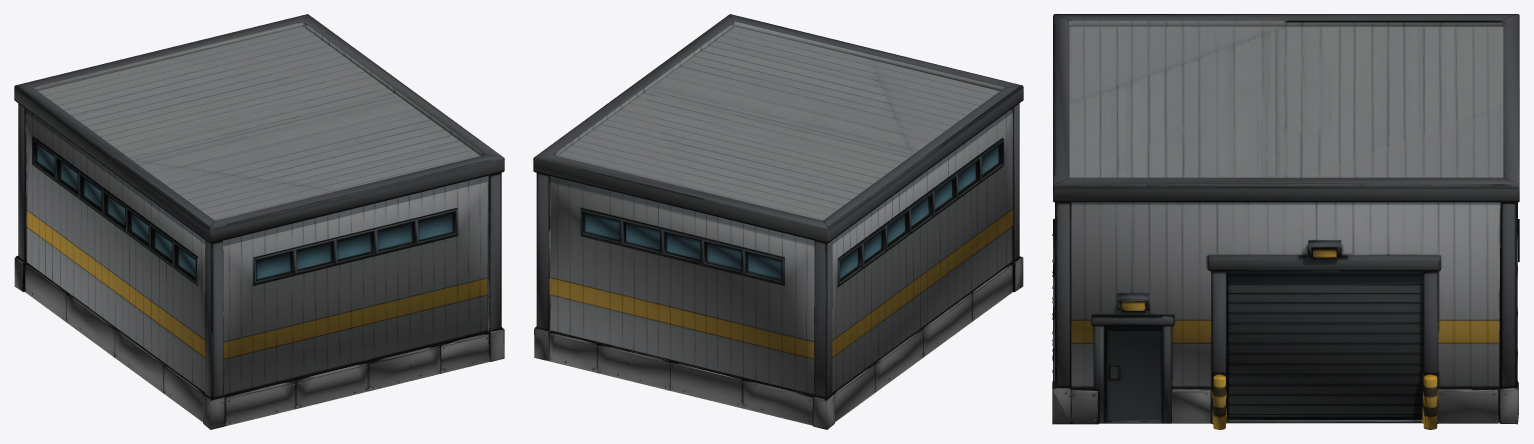
File: warehouse.glb
3 views of the same model, side by side, from view 1: azimuth 30°, elevation 25°; view 2: azimuth 150°, elevation 25°; view 3: azimuth 270°, elevation 25° (orthographic). The views are drawn at different scales.
Parts seen in each view (by area): view 1: tripo_node_65d16bf6-752d-4824-8b7b-5fcc408a0023; view 2: tripo_node_65d16bf6-752d-4824-8b7b-5fcc408a0023; view 3: tripo_node_65d16bf6-752d-4824-8b7b-5fcc408a0023.
Boxes of the visible parts, box(x1,y1,x2,y2) form: tripo_node_65d16bf6-752d-4824-8b7b-5fcc408a0023: box(14, 14, 504, 429); tripo_node_65d16bf6-752d-4824-8b7b-5fcc408a0023: box(533, 14, 1023, 429); tripo_node_65d16bf6-752d-4824-8b7b-5fcc408a0023: box(1052, 14, 1519, 429).
Size of the model in its own units: 12.52 by 7.92 by 14.
Materials: 1 (1 with a texture image).
